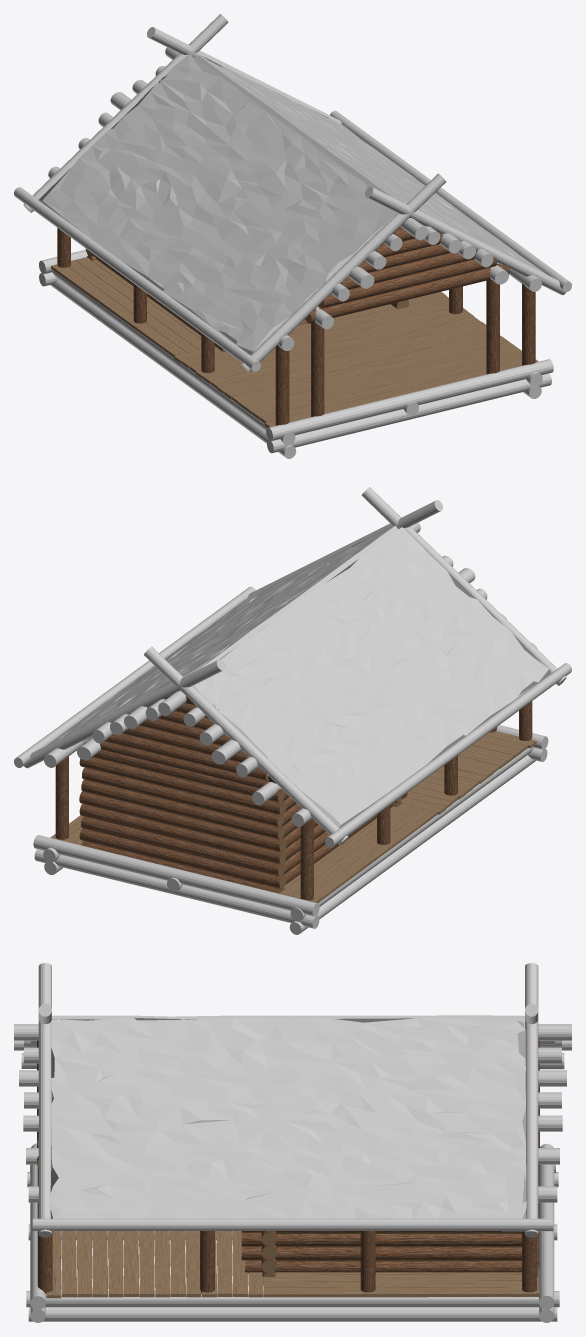
File: izbushka_LOD2.fbx
3 renders of one model, top to bottom at view 1: azimuth 30°, elevation 25°; view 2: azimuth 150°, elevation 25°; view 3: azimuth 270°, elevation 25°, orthographic. The views are drawn at different scales.
Visible parts, largest first — view 1: Куб.003, Куб.002, Цилиндр.003, Цилиндр.014, Цилиндр, Цилиндр.017, Цилиндр.008, Цилиндр.015, Цилиндр.022, Цилиндр.016, Цилиндр.041, Цилиндр.023 (+26 smaller); view 2: Куб.003, Куб.002, Цилиндр.006, Цилиндр.014, Цилиндр.001, Цилиндр.041, Цилиндр.008, Цилиндр.045, Цилиндр.042, Цилиндр.044, Цилиндр.046, Цилиндр.043 (+19 smaller); view 3: Куб.002, Цилиндр.005, Цилиндр.015, Цилиндр.002, Цилиндр.050, Цилиндр.016, Цилиндр.051, Цилиндр.040, Цилиндр.020, Куб.049, Цилиндр.006, Куб.003 (+31 smaller).
Part boxes in pixels (box(x1,y1,x2,y2)): Куб.003: box(39, 54, 396, 354); Куб.002: box(194, 55, 546, 274); Цилиндр.003: box(266, 359, 553, 440); Цилиндр.014: box(14, 187, 260, 371); Цилиндр: box(267, 373, 551, 453); Цилиндр.017: box(241, 173, 446, 372); Цилиндр.008: box(50, 279, 296, 458); Цилиндр.015: box(330, 110, 571, 292); Цилиндр.022: box(305, 263, 509, 323); Цилиндр.016: box(364, 186, 566, 295); Цилиндр.041: box(23, 14, 228, 212); Цилиндр.023: box(319, 257, 497, 308); Куб.003: box(193, 527, 551, 827); Куб.002: box(46, 525, 398, 745); Цилиндр.006: box(33, 835, 319, 916); Цилиндр.014: box(325, 663, 571, 847); Цилиндр.001: box(34, 849, 319, 928); Цилиндр.041: box(144, 646, 348, 845); Цилиндр.008: box(289, 755, 535, 934); Цилиндр.045: box(79, 791, 286, 852); Цилиндр.042: box(79, 828, 286, 888); Цилиндр.044: box(79, 804, 286, 864); Цилиндр.046: box(81, 779, 284, 839); Цилиндр.043: box(81, 816, 284, 876); Куб.002: box(50, 1018, 526, 1218); Цилиндр.005: box(28, 1307, 557, 1321); Цилиндр.015: box(32, 1218, 553, 1231); Цилиндр.002: box(26, 1291, 559, 1307); Цилиндр.050: box(241, 1246, 521, 1260); Цилиндр.016: box(38, 963, 51, 1237); Цилиндр.051: box(241, 1232, 521, 1246); Цилиндр.040: box(525, 963, 538, 1237); Цилиндр.020: box(245, 1260, 521, 1273); Куб.049: box(264, 1287, 539, 1297); Цилиндр.006: box(539, 1143, 554, 1309); Куб.003: box(52, 1015, 524, 1026).
Bounding box in the file's own units: 5535 × 3988 × 7388.
